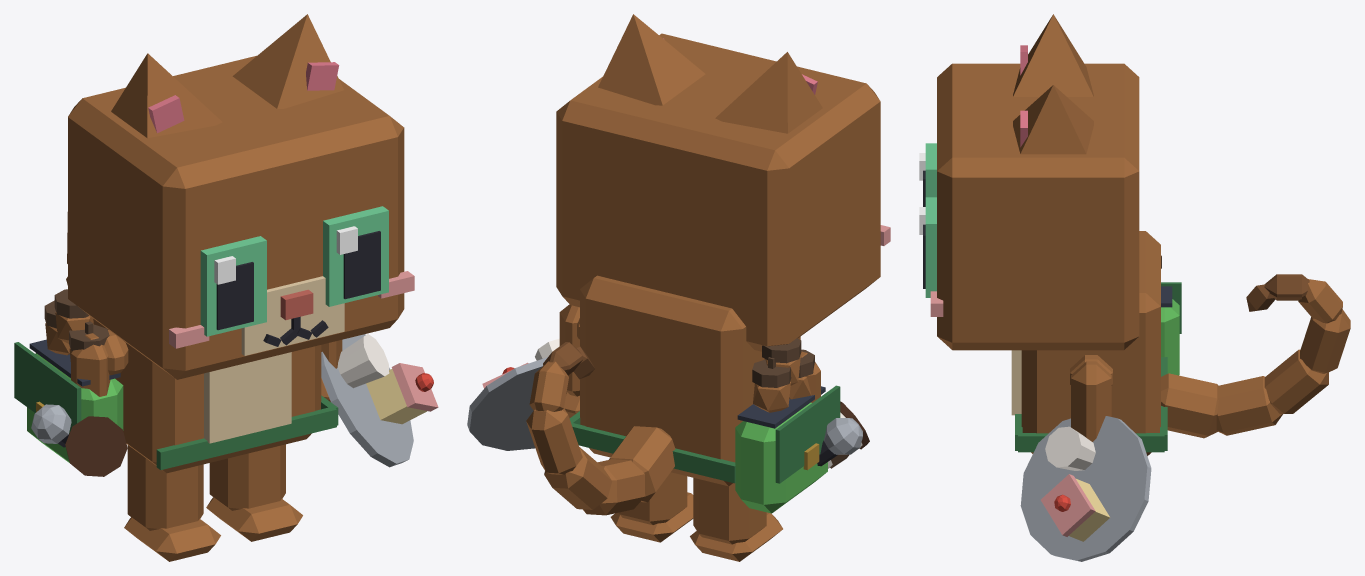
The model's file is CatCafe_Cat_Acorn_Work.glb.
3 renders of one model, left to right at view 1: azimuth 30°, elevation 25°; view 2: azimuth 150°, elevation 25°; view 3: azimuth 270°, elevation 25°, orthographic. The views are drawn at different scales.
Visible parts, largest first — view 1: CatCafe_Cat_Acorn_Work_Head, CatCafe_Cat_Acorn_Work_Body, CatCafe_Cat_Acorn_Work_Held_Waiter, CatCafe_Cat_Acorn_Work_LegB2, CatCafe_Cat_Acorn_Work_LegB1, CatCafe_Cat_Acorn_Work_Eye2, CatCafe_Cat_Acorn_Work_Eye1, CatCafe_Cat_Acorn_Work_EarL, CatCafe_Cat_Acorn_Work_EarR, CatCafe_Cat_Acorn_Work_Held_Barista, CatCafe_Cat_Acorn_Work_LegF2, CatCafe_Cat_Acorn_Work_Held_Entertainer; view 2: CatCafe_Cat_Acorn_Work_Head, CatCafe_Cat_Acorn_Work_Body, CatCafe_Cat_Acorn_Work_Tail, CatCafe_Cat_Acorn_Work_EarL, CatCafe_Cat_Acorn_Work_LegB2, CatCafe_Cat_Acorn_Work_Held_Waiter, CatCafe_Cat_Acorn_Work_EarR, CatCafe_Cat_Acorn_Work_LegB1, CatCafe_Cat_Acorn_Work_Held_Entertainer, CatCafe_Cat_Acorn_Work_LegF1; view 3: CatCafe_Cat_Acorn_Work_Head, CatCafe_Cat_Acorn_Work_Body, CatCafe_Cat_Acorn_Work_Held_Waiter, CatCafe_Cat_Acorn_Work_Tail, CatCafe_Cat_Acorn_Work_EarL, CatCafe_Cat_Acorn_Work_EarR, CatCafe_Cat_Acorn_Work_LegF1, CatCafe_Cat_Acorn_Work_Eye1, CatCafe_Cat_Acorn_Work_Eye2.
Part boxes in pixels (left/top/right/bottom): CatCafe_Cat_Acorn_Work_Head: left=68, top=55, right=414, bottom=379; CatCafe_Cat_Acorn_Work_Body: left=14, top=289, right=338, bottom=473; CatCafe_Cat_Acorn_Work_Held_Waiter: left=321, top=334, right=438, bottom=467; CatCafe_Cat_Acorn_Work_LegB2: left=124, top=445, right=220, bottom=561; CatCafe_Cat_Acorn_Work_LegB1: left=206, top=444, right=302, bottom=541; CatCafe_Cat_Acorn_Work_Eye2: left=200, top=236, right=266, bottom=336; CatCafe_Cat_Acorn_Work_Eye1: left=323, top=206, right=388, bottom=306; CatCafe_Cat_Acorn_Work_EarL: left=232, top=14, right=343, bottom=108; CatCafe_Cat_Acorn_Work_EarR: left=111, top=53, right=222, bottom=138; CatCafe_Cat_Acorn_Work_Held_Barista: left=65, top=416, right=127, bottom=476; CatCafe_Cat_Acorn_Work_LegF2: left=71, top=333, right=110, bottom=396; CatCafe_Cat_Acorn_Work_Held_Entertainer: left=31, top=404, right=71, bottom=447; CatCafe_Cat_Acorn_Work_Head: left=556, top=33, right=890, bottom=351; CatCafe_Cat_Acorn_Work_Body: left=569, top=275, right=840, bottom=513; CatCafe_Cat_Acorn_Work_Tail: left=526, top=342, right=675, bottom=515; CatCafe_Cat_Acorn_Work_EarL: left=598, top=14, right=705, bottom=105; CatCafe_Cat_Acorn_Work_LegB2: left=690, top=478, right=782, bottom=561; CatCafe_Cat_Acorn_Work_Held_Waiter: left=467, top=338, right=559, bottom=450; CatCafe_Cat_Acorn_Work_EarR: left=715, top=52, right=822, bottom=133; CatCafe_Cat_Acorn_Work_LegB1: left=610, top=472, right=693, bottom=542; CatCafe_Cat_Acorn_Work_Held_Entertainer: left=817, top=418, right=862, bottom=466; CatCafe_Cat_Acorn_Work_LegF1: left=559, top=304, right=579, bottom=418; CatCafe_Cat_Acorn_Work_Head: left=930, top=63, right=1139, bottom=350; CatCafe_Cat_Acorn_Work_Body: left=1011, top=231, right=1181, bottom=455; CatCafe_Cat_Acorn_Work_Held_Waiter: left=1020, top=416, right=1151, bottom=561; CatCafe_Cat_Acorn_Work_Tail: left=1161, top=274, right=1350, bottom=438; CatCafe_Cat_Acorn_Work_EarL: left=1013, top=85, right=1093, bottom=154; CatCafe_Cat_Acorn_Work_EarR: left=1013, top=14, right=1093, bottom=96; CatCafe_Cat_Acorn_Work_LegF1: left=1071, top=361, right=1111, bottom=441; CatCafe_Cat_Acorn_Work_Eye1: left=919, top=197, right=936, bottom=297; CatCafe_Cat_Acorn_Work_Eye2: left=919, top=143, right=936, bottom=206.
Size of the model in its own units: 1.53 by 1.93 by 1.62.
Materials: 1 (1 with a texture image).
